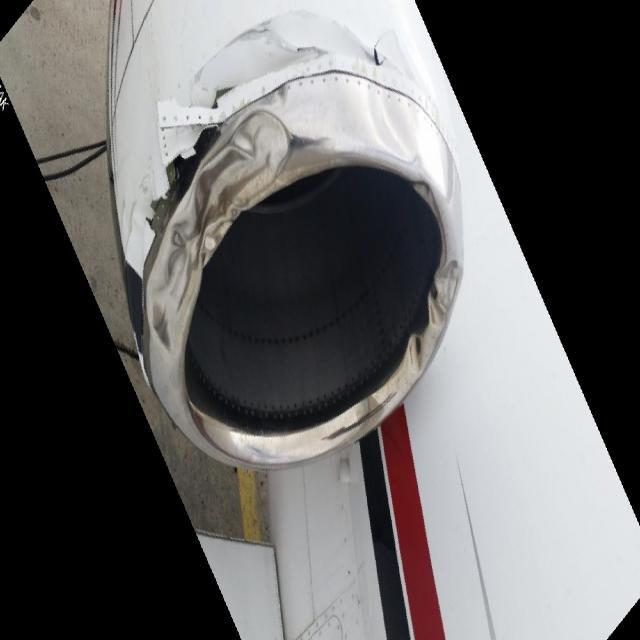dent: (150, 110, 297, 331), (429, 258, 463, 333), (407, 337, 428, 370)
